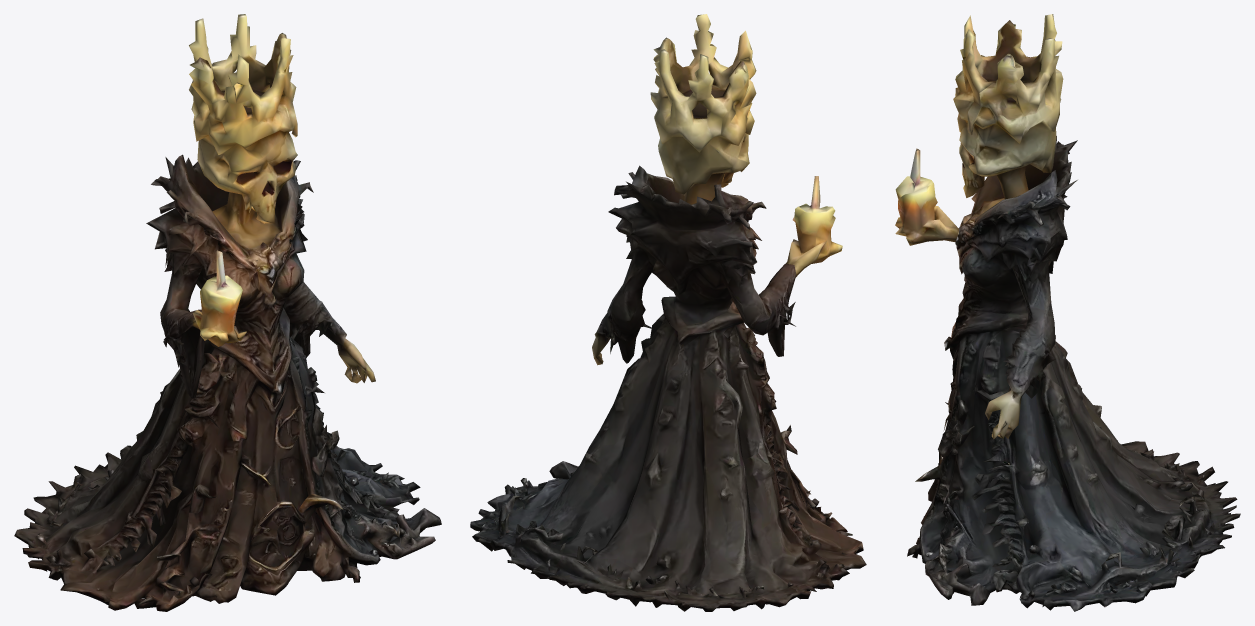
File: foe_tallow_witch.glb
3 views of the same model, side by side, from view 1: azimuth 30°, elevation 25°; view 2: azimuth 150°, elevation 25°; view 3: azimuth 270°, elevation 25° (orthographic). The views are drawn at different scales.
Visible parts, largest first — view 1: tripo_node_ebe899f0-41f8-4334-9ab5-6bfeb996403a; view 2: tripo_node_ebe899f0-41f8-4334-9ab5-6bfeb996403a; view 3: tripo_node_ebe899f0-41f8-4334-9ab5-6bfeb996403a.
Part boxes in pixels (<box>): tripo_node_ebe899f0-41f8-4334-9ab5-6bfeb996403a: <box>14,14,441,611</box>; tripo_node_ebe899f0-41f8-4334-9ab5-6bfeb996403a: <box>470,14,866,611</box>; tripo_node_ebe899f0-41f8-4334-9ab5-6bfeb996403a: <box>895,14,1240,611</box>.
Bounding box in the file's own units: 0.7202 × 0.9807 × 0.6038.
1 material, 1 textured.
